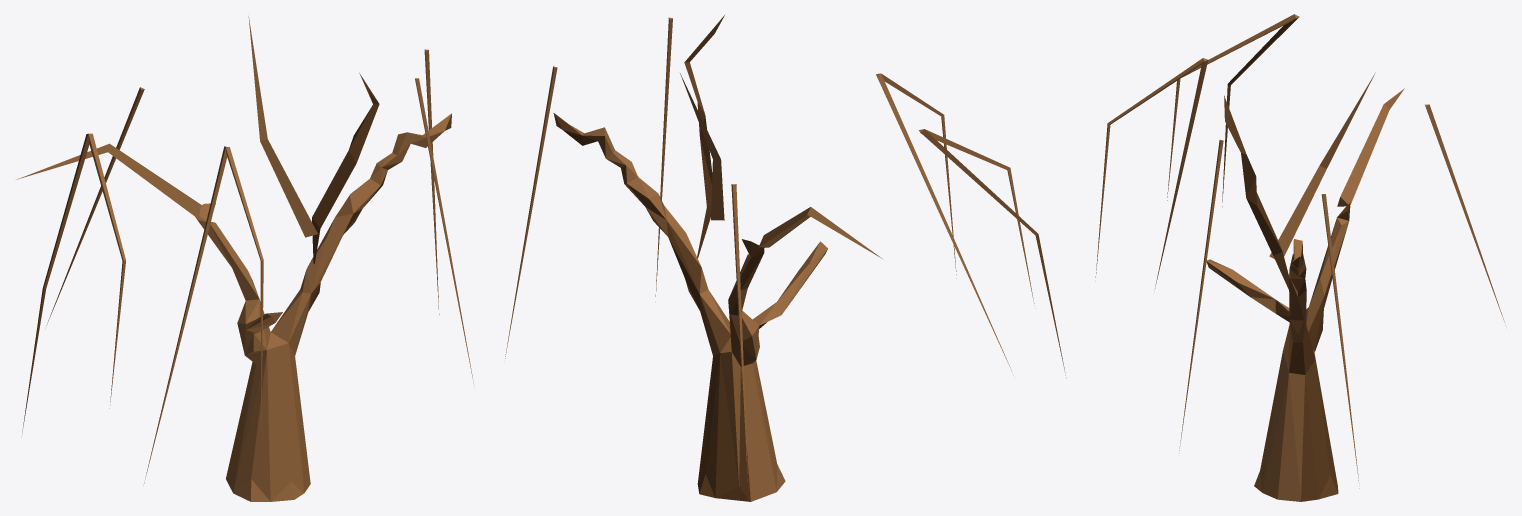
Rendered from wisteria_bare_far.glb.
3 views of the same model, side by side, from view 1: azimuth 30°, elevation 25°; view 2: azimuth 150°, elevation 25°; view 3: azimuth 270°, elevation 25° (orthographic). The views are drawn at different scales.
Parts seen in each view (by area): view 1: wisteria_bare_far; view 2: wisteria_bare_far; view 3: wisteria_bare_far.
Part boxes in pixels (x1=…): wisteria_bare_far: x1=16, y1=16, x2=474, y2=501; wisteria_bare_far: x1=505, y1=15, x2=1066, y2=501; wisteria_bare_far: x1=1095, y1=14, x2=1505, y2=501.
Size of the model in its own units: 6.91 by 5.88 by 5.2.
